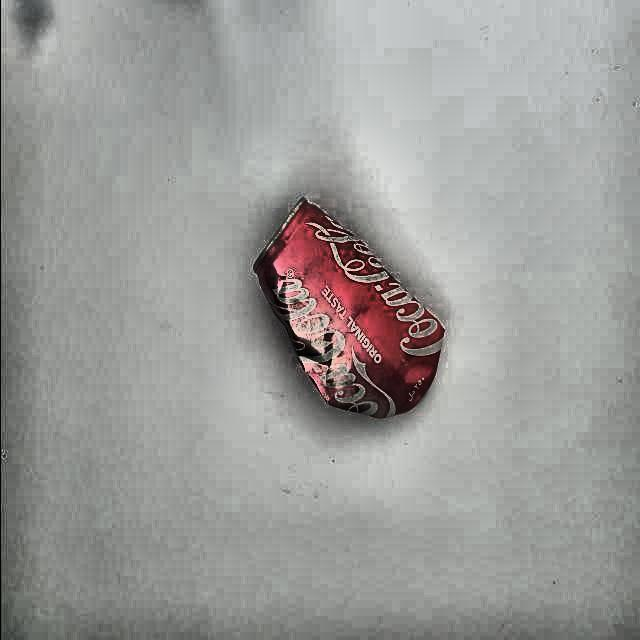metal: (251, 201, 445, 421)
